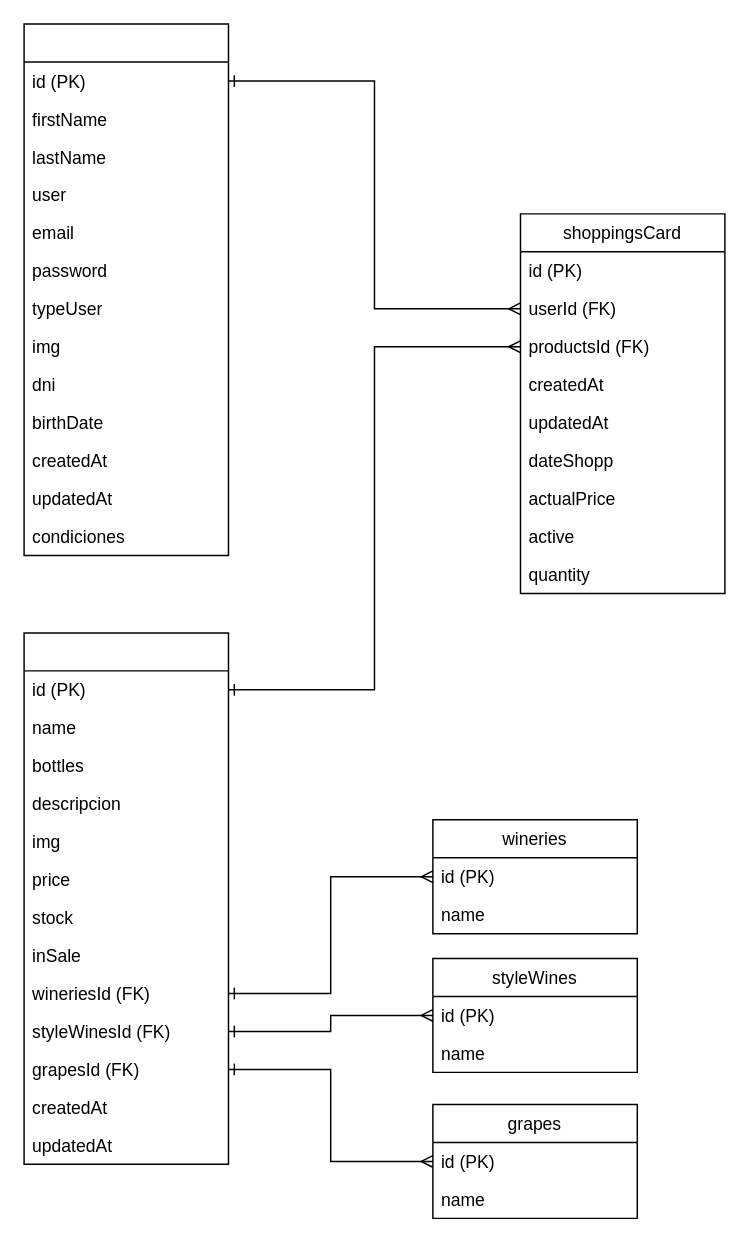
Image size: 749x1242. Some labels were removed from this diagram. Each missing label, with the box of its shape:
products: (23, 631, 228, 1164)
users: (23, 23, 228, 556)
